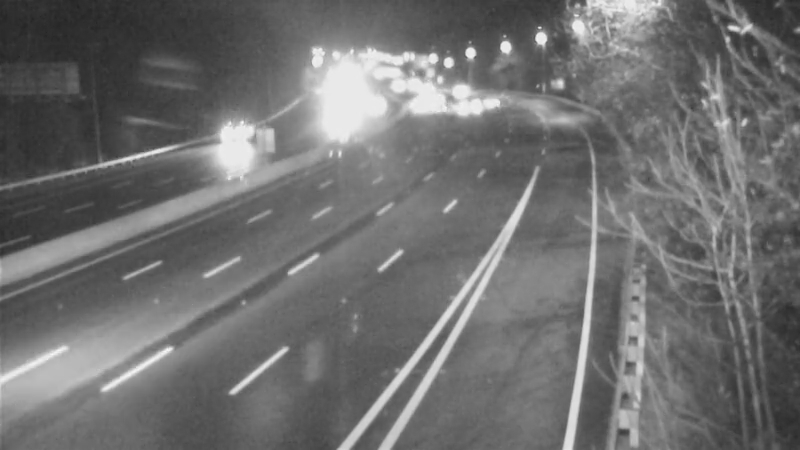vehicle: (434, 65, 484, 115), (417, 71, 467, 121), (387, 77, 437, 127), (470, 82, 520, 132), (444, 79, 494, 129), (207, 109, 257, 159)
